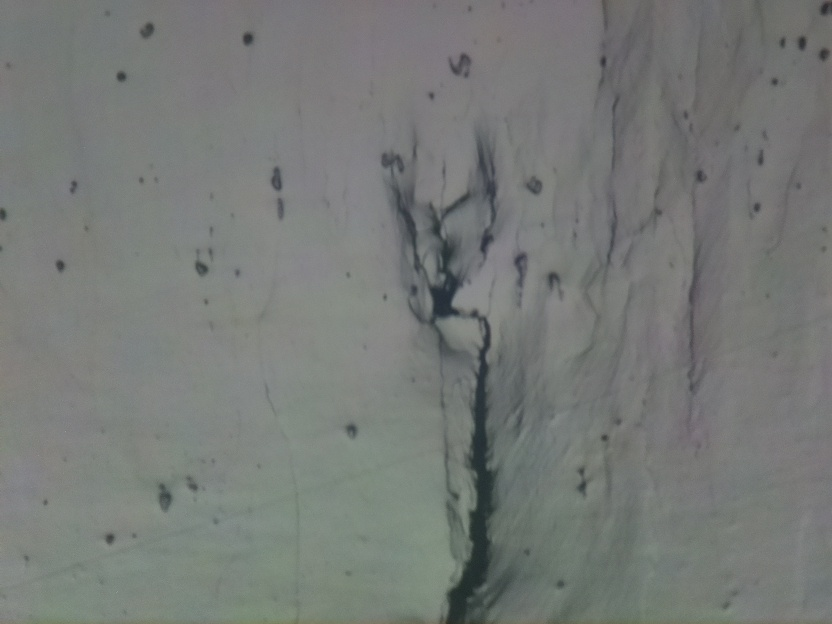crack: (395, 152, 494, 624)
